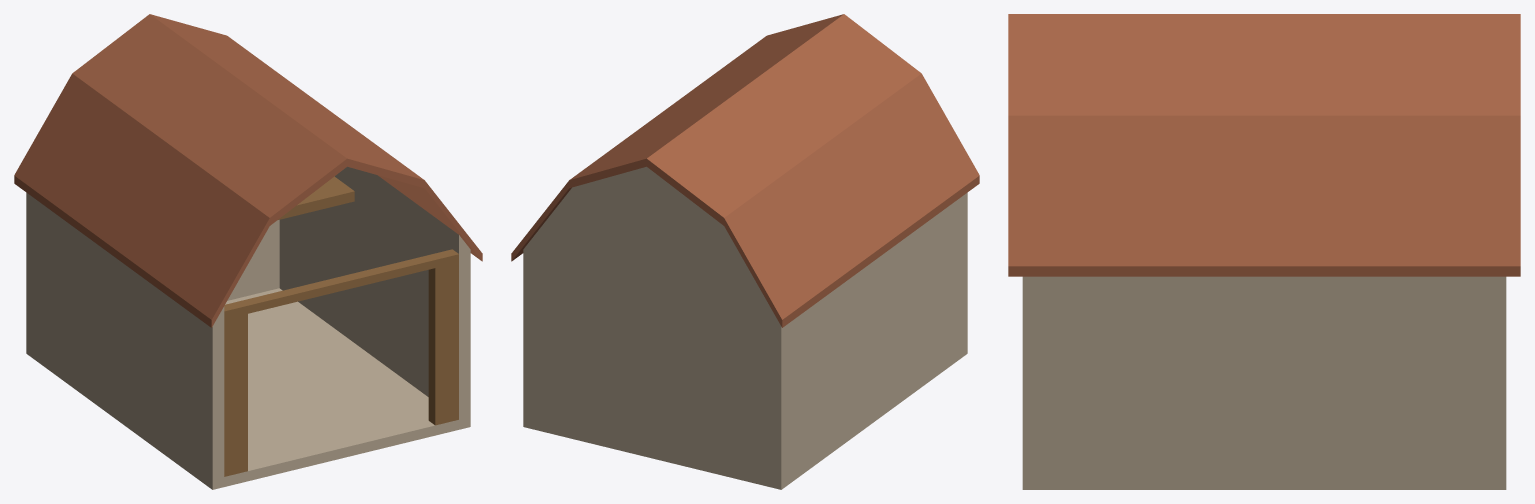
3 views of the same model, side by side, from view 1: azimuth 30°, elevation 25°; view 2: azimuth 150°, elevation 25°; view 3: azimuth 270°, elevation 25° (orthographic). The views are drawn at different scales.
Visible parts, largest first — view 1: ContinuousGambrelRoof, LeftFullSideWall, WholeGroundSlab, RightFullSideWall, FrontRightLoadingJamb, FrontLeftLoadingJamb, FrontLoadingHeader, CompleteRearGambrelWall, RearHalfDepthLoft; view 2: ContinuousGambrelRoof, CompleteRearGambrelWall, LeftFullSideWall, WholeGroundSlab, RightFullSideWall; view 3: ContinuousGambrelRoof, RightFullSideWall, WholeGroundSlab.
Boxes of the visible parts, x1=… form: ContinuousGambrelRoof: x1=14, y1=14, x2=482, y2=327; LeftFullSideWall: x1=26, y1=192, x2=224, y2=479; WholeGroundSlab: x1=26, y1=288, x2=470, y2=489; RightFullSideWall: x1=279, y1=166, x2=470, y2=419; FrontRightLoadingJamb: x1=428, y1=249, x2=458, y2=425; FrontLeftLoadingJamb: x1=224, y1=301, x2=247, y2=476; FrontLoadingHeader: x1=241, y1=255, x2=435, y2=313; CompleteRearGambrelWall: x1=227, y1=220, x2=279, y2=300; RearHalfDepthLoft: x1=278, y1=176, x2=354, y2=219; ContinuousGambrelRoof: x1=511, y1=14, x2=979, y2=327; CompleteRearGambrelWall: x1=535, y1=166, x2=769, y2=476; LeftFullSideWall: x1=769, y1=192, x2=967, y2=479; WholeGroundSlab: x1=523, y1=344, x2=967, y2=489; RightFullSideWall: x1=523, y1=235, x2=534, y2=419; ContinuousGambrelRoof: x1=1008, y1=14, x2=1520, y2=276; RightFullSideWall: x1=1022, y1=276, x2=1506, y2=476; WholeGroundSlab: x1=1022, y1=477, x2=1506, y2=489.
Size of the model in its own units: 4.2 by 4.5 by 5.3.
